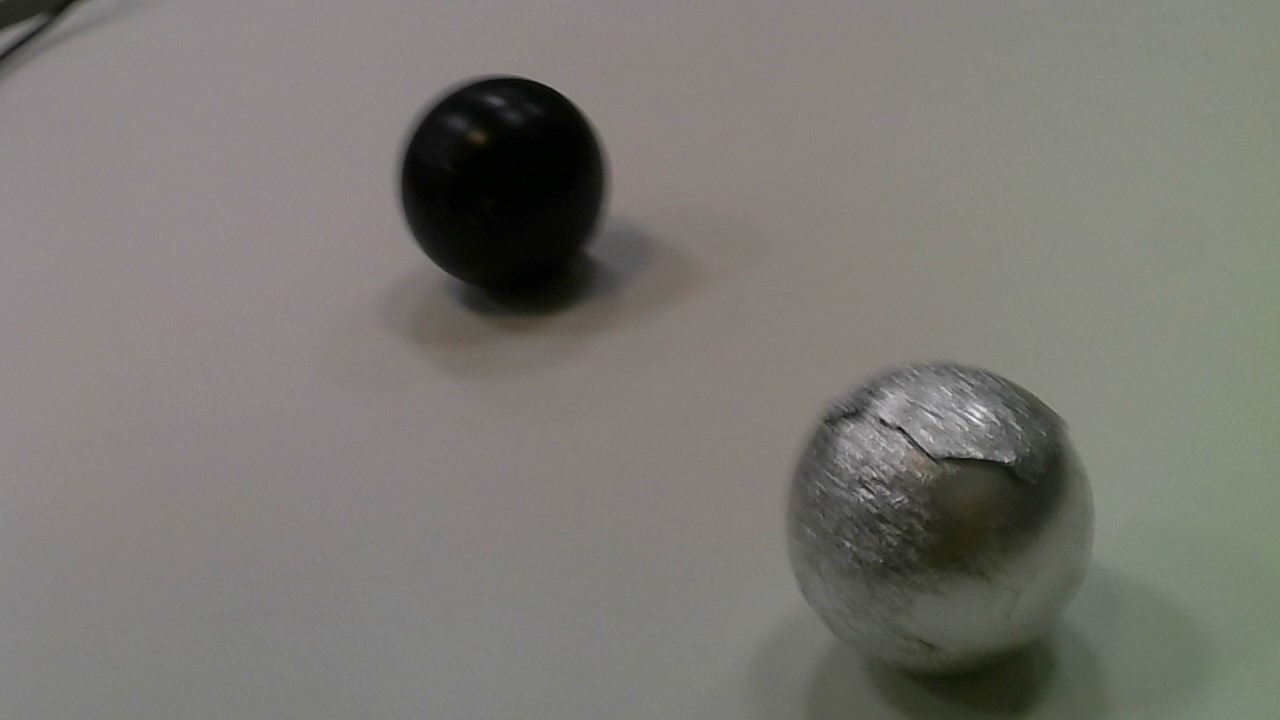black_ball: (402, 72, 613, 305)
silver_ball: (781, 353, 1097, 687)
